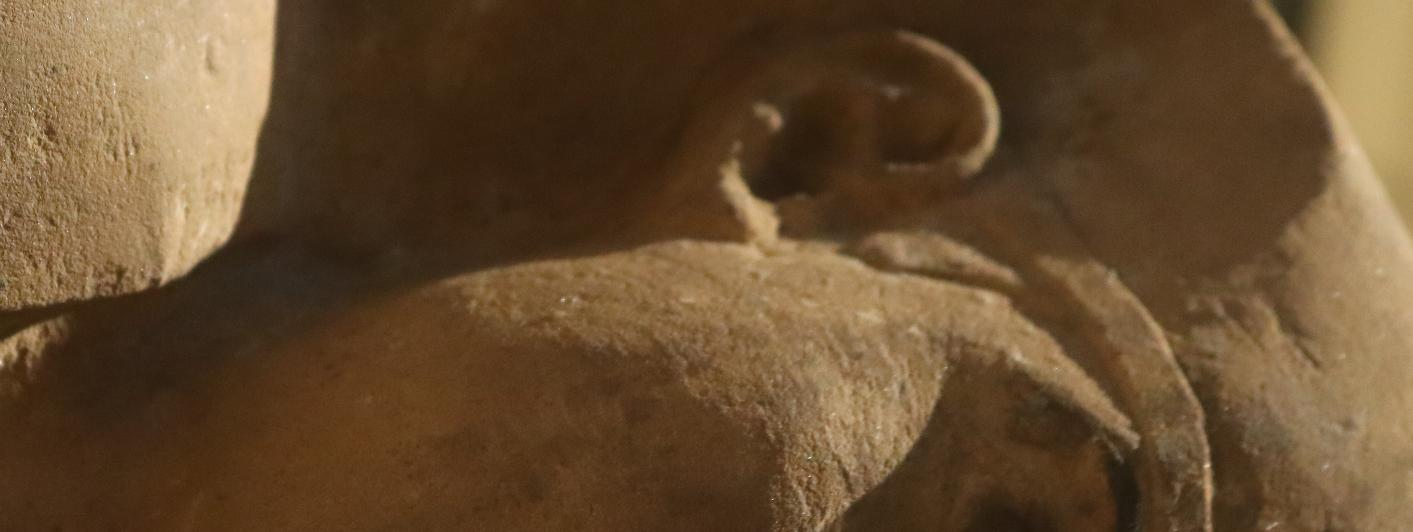statue_ofthe_sphinx: (0, 0, 843, 532)
